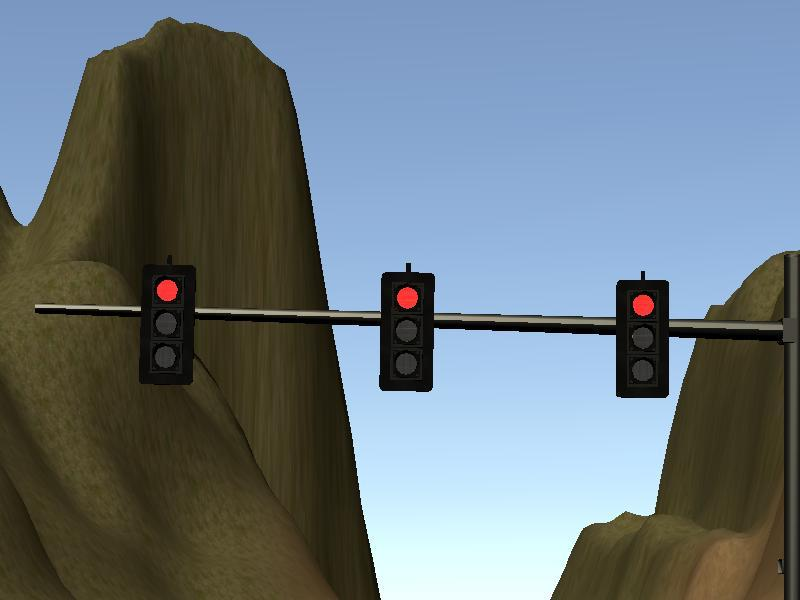Red: (616, 280, 670, 397), (140, 264, 193, 383), (381, 271, 432, 392)
